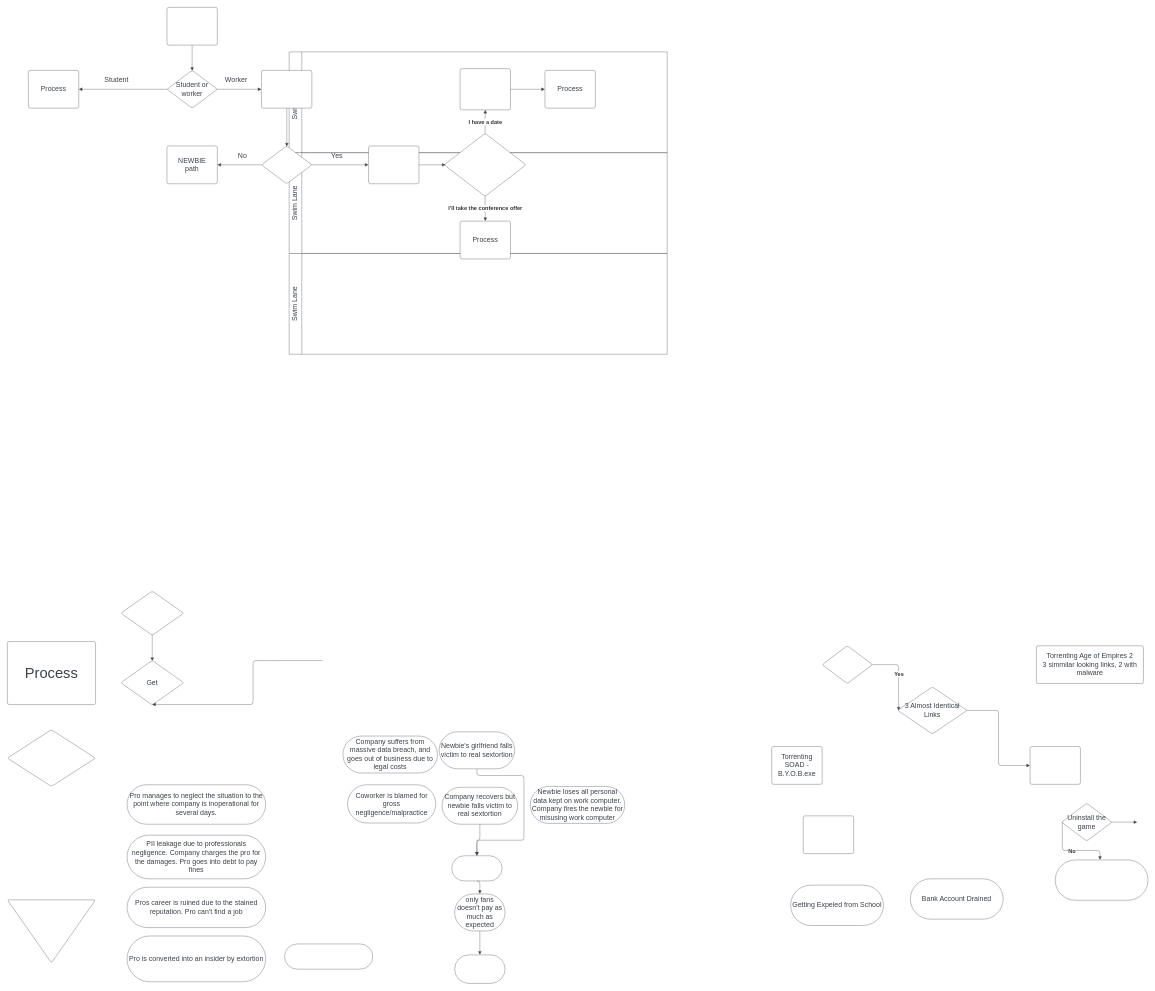
Some shapes in this 1155 by 991 pixel diagram are drawn without their labels. The centre of each missing label's shape, as x and y in pixels:
"Broken PC" belongs at (x=1101, y=880).
"CISO leaves" belongs at (x=328, y=956).
"Decision" belongs at (x=51, y=757).
"Encounter with infected thing" belongs at (x=152, y=613).
"Get Crypto Mining Malware" belongs at (x=1055, y=765).
"IT?" belongs at (x=286, y=165).
"Merge" belongs at (x=51, y=931).
"OnlyFans job" belongs at (x=476, y=868).
"Pirate the Game" belongs at (x=847, y=664).
"PRO path" belongs at (x=393, y=165).
"Start" belongs at (x=192, y=26).
"Suck dick behind KFC in lasnamae" belongs at (x=479, y=968).
"Where are you going to on Thursday?" belongs at (x=485, y=164).
"You go out on a date - menu has a QR code" belongs at (x=485, y=89).
"You go to work" belongs at (x=286, y=89).
